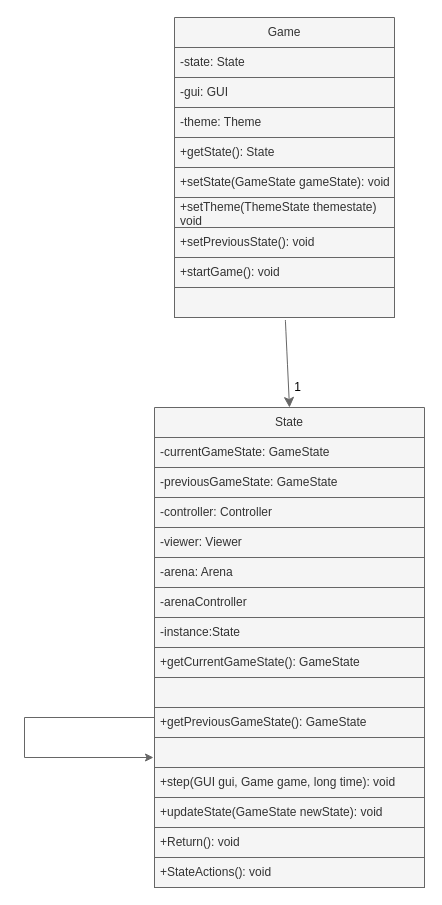
Image size: 442x905. Some labels were removed from this diagram. Here are the shapes that lost their labels. From the top down, the centre of each, then its label:
the point at 284,302: +main(String[] args): void
the point at 289,692: +setCurrentGameState(GameState gameState): void
the point at 289,752: +setPreviousGameState(GameState previousGameState): void
